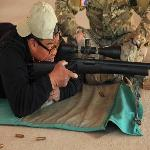Senapan: (27, 37, 150, 92)
